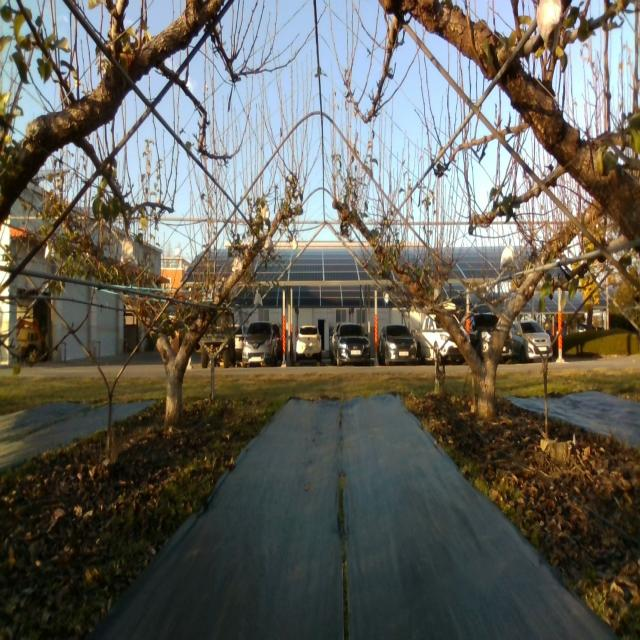pearbags: (536, 0, 562, 52), (121, 238, 135, 264), (500, 245, 515, 268), (232, 254, 243, 272)
